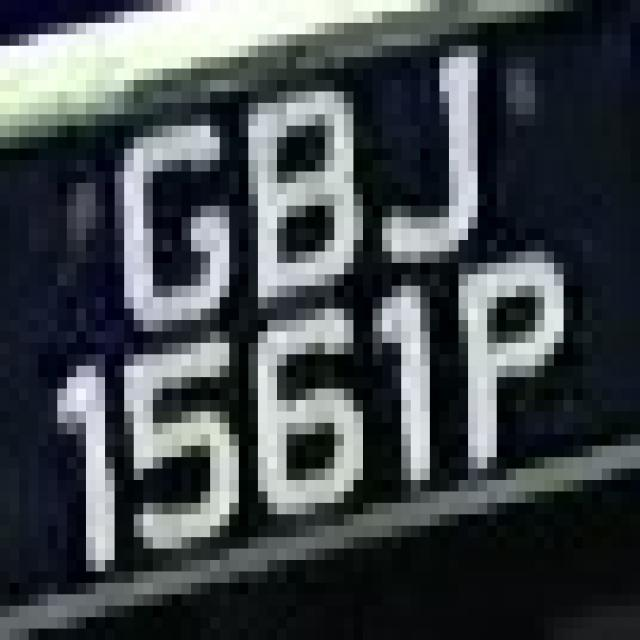1: (38, 320, 124, 583), (392, 252, 449, 468)
5: (95, 309, 239, 560)
6: (229, 274, 373, 537)
B: (210, 80, 373, 309)
G: (95, 114, 248, 343)
J: (363, 11, 497, 240)
P: (439, 228, 583, 492)
